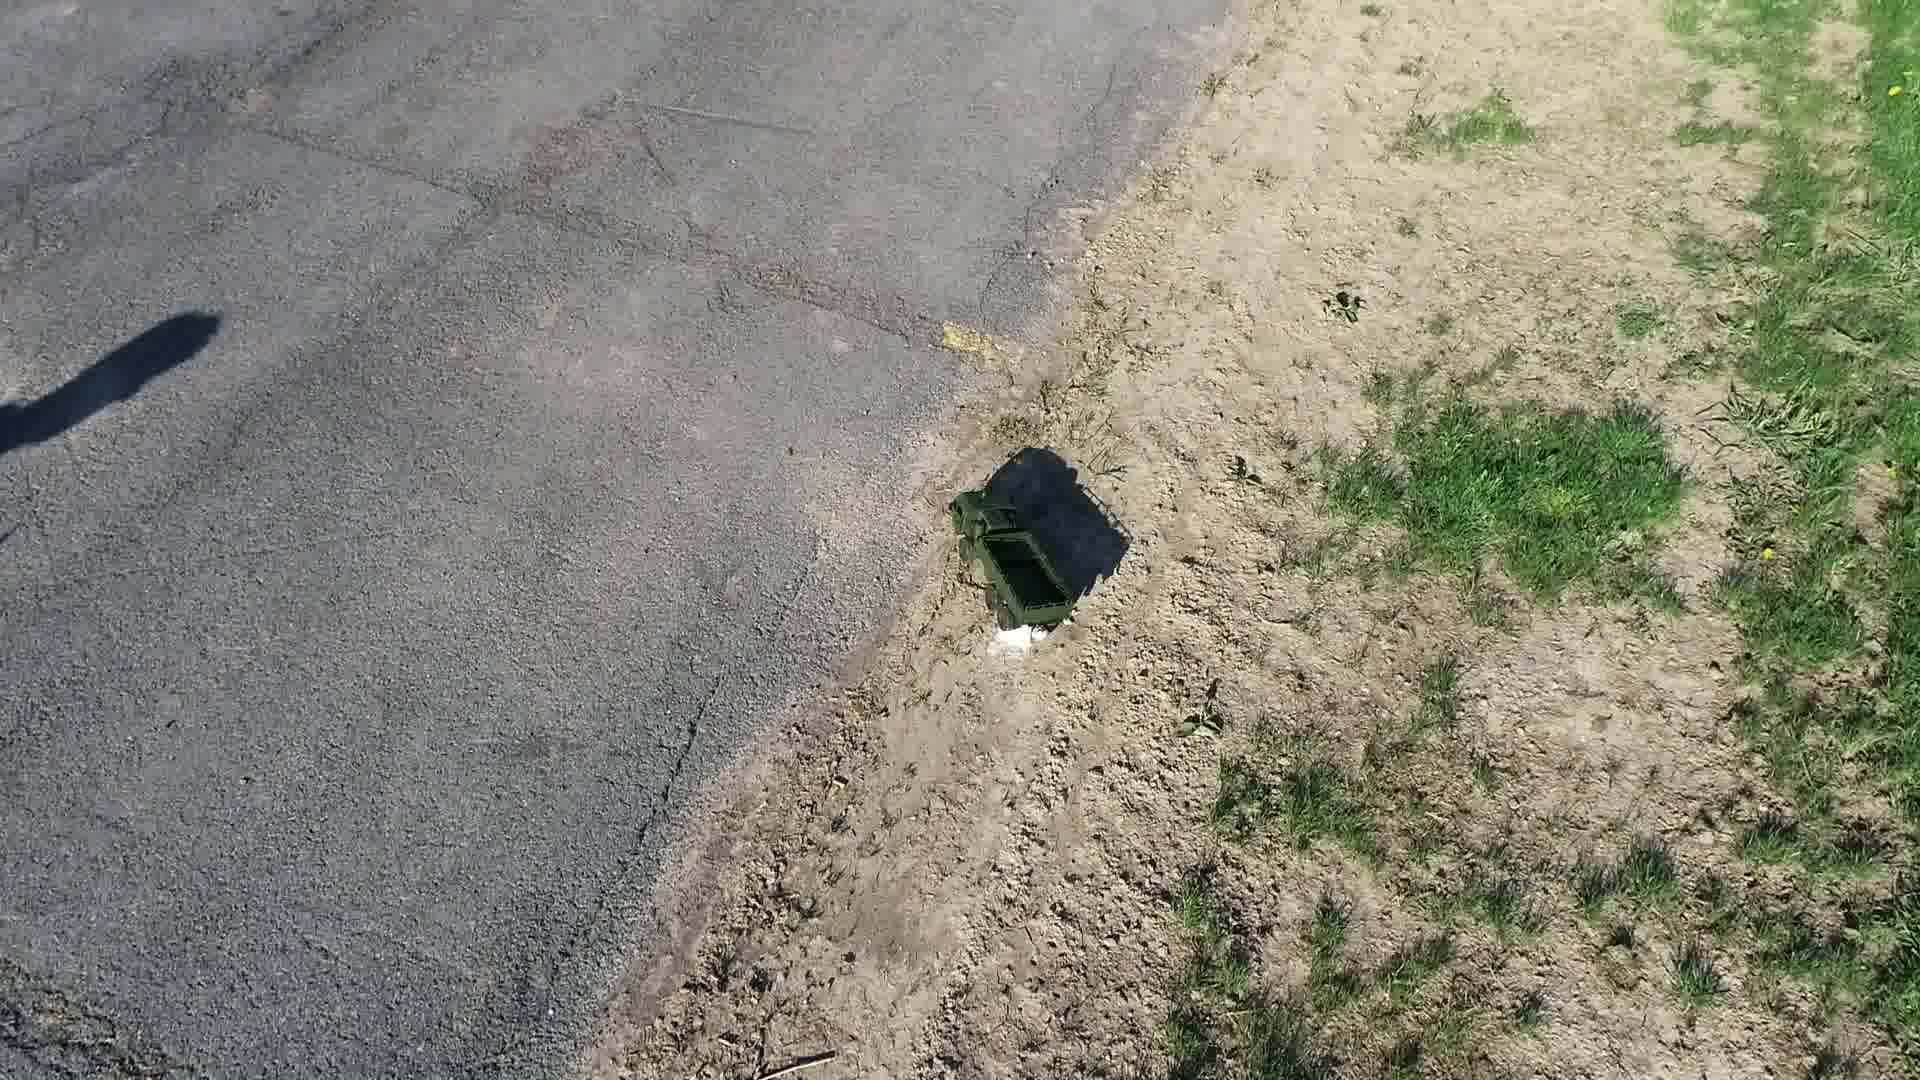transporter9: (939, 484, 1087, 644)
